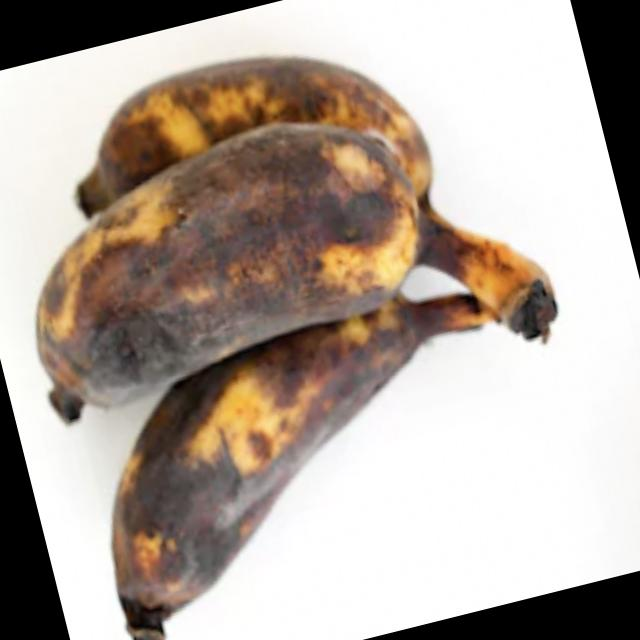rotten-banana: (0, 103, 446, 418), (64, 296, 474, 632), (52, 16, 426, 209)
